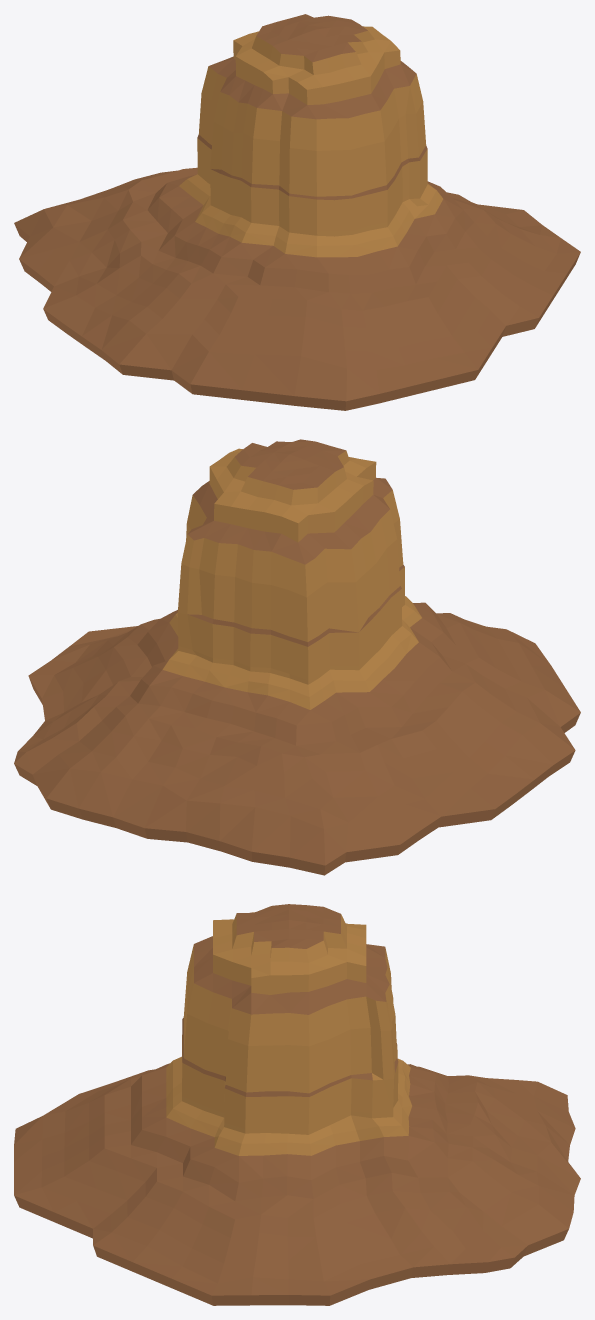
The model's file is mountain-desert.glb.
3 views of the same model, one above another, from view 1: azimuth 30°, elevation 25°; view 2: azimuth 150°, elevation 25°; view 3: azimuth 270°, elevation 25° (orthographic). The views are drawn at different scales.
Parts seen in each view (by area): view 1: mountain-desert; view 2: mountain-desert; view 3: mountain-desert.
Boxes of the visible parts, x1,y1,x2,y2 form: mountain-desert: (14,14,580,410); mountain-desert: (14,439,580,875); mountain-desert: (14,904,580,1305).
Size of the model in its own units: 53.09 by 28.86 by 54.37.
1 material, 1 textured.
